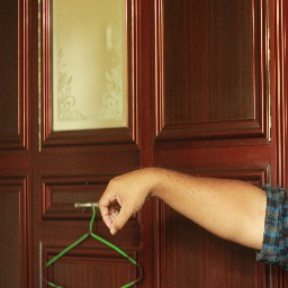O: (98, 165, 149, 236)
